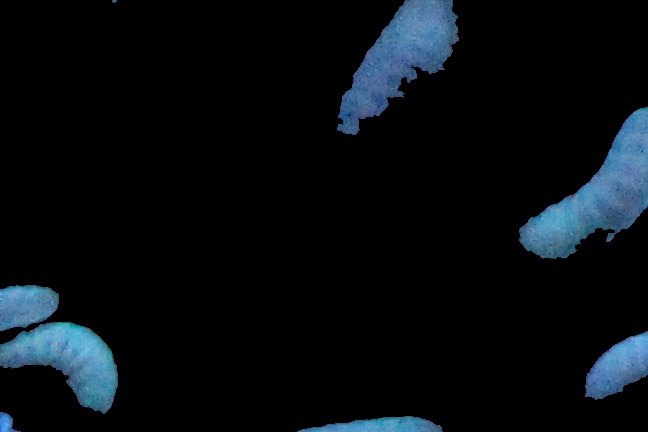larvae: (330, 1, 464, 181), (517, 87, 648, 260), (2, 322, 119, 412), (583, 322, 648, 405)
